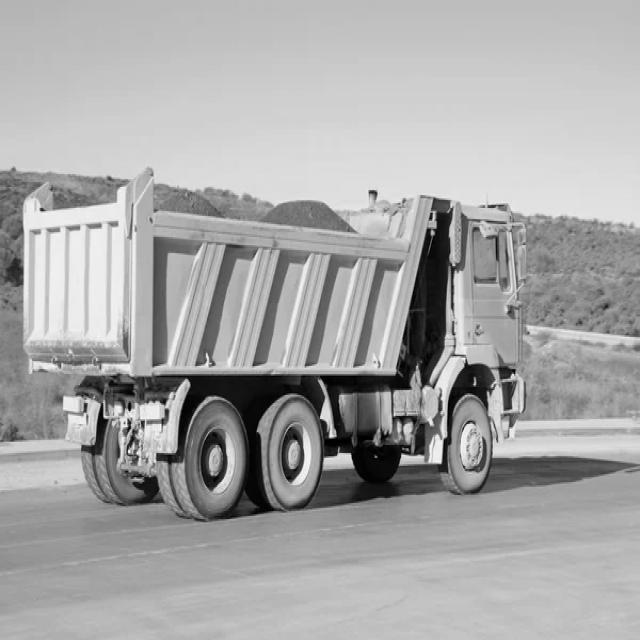Truck: (22, 168, 527, 522)
